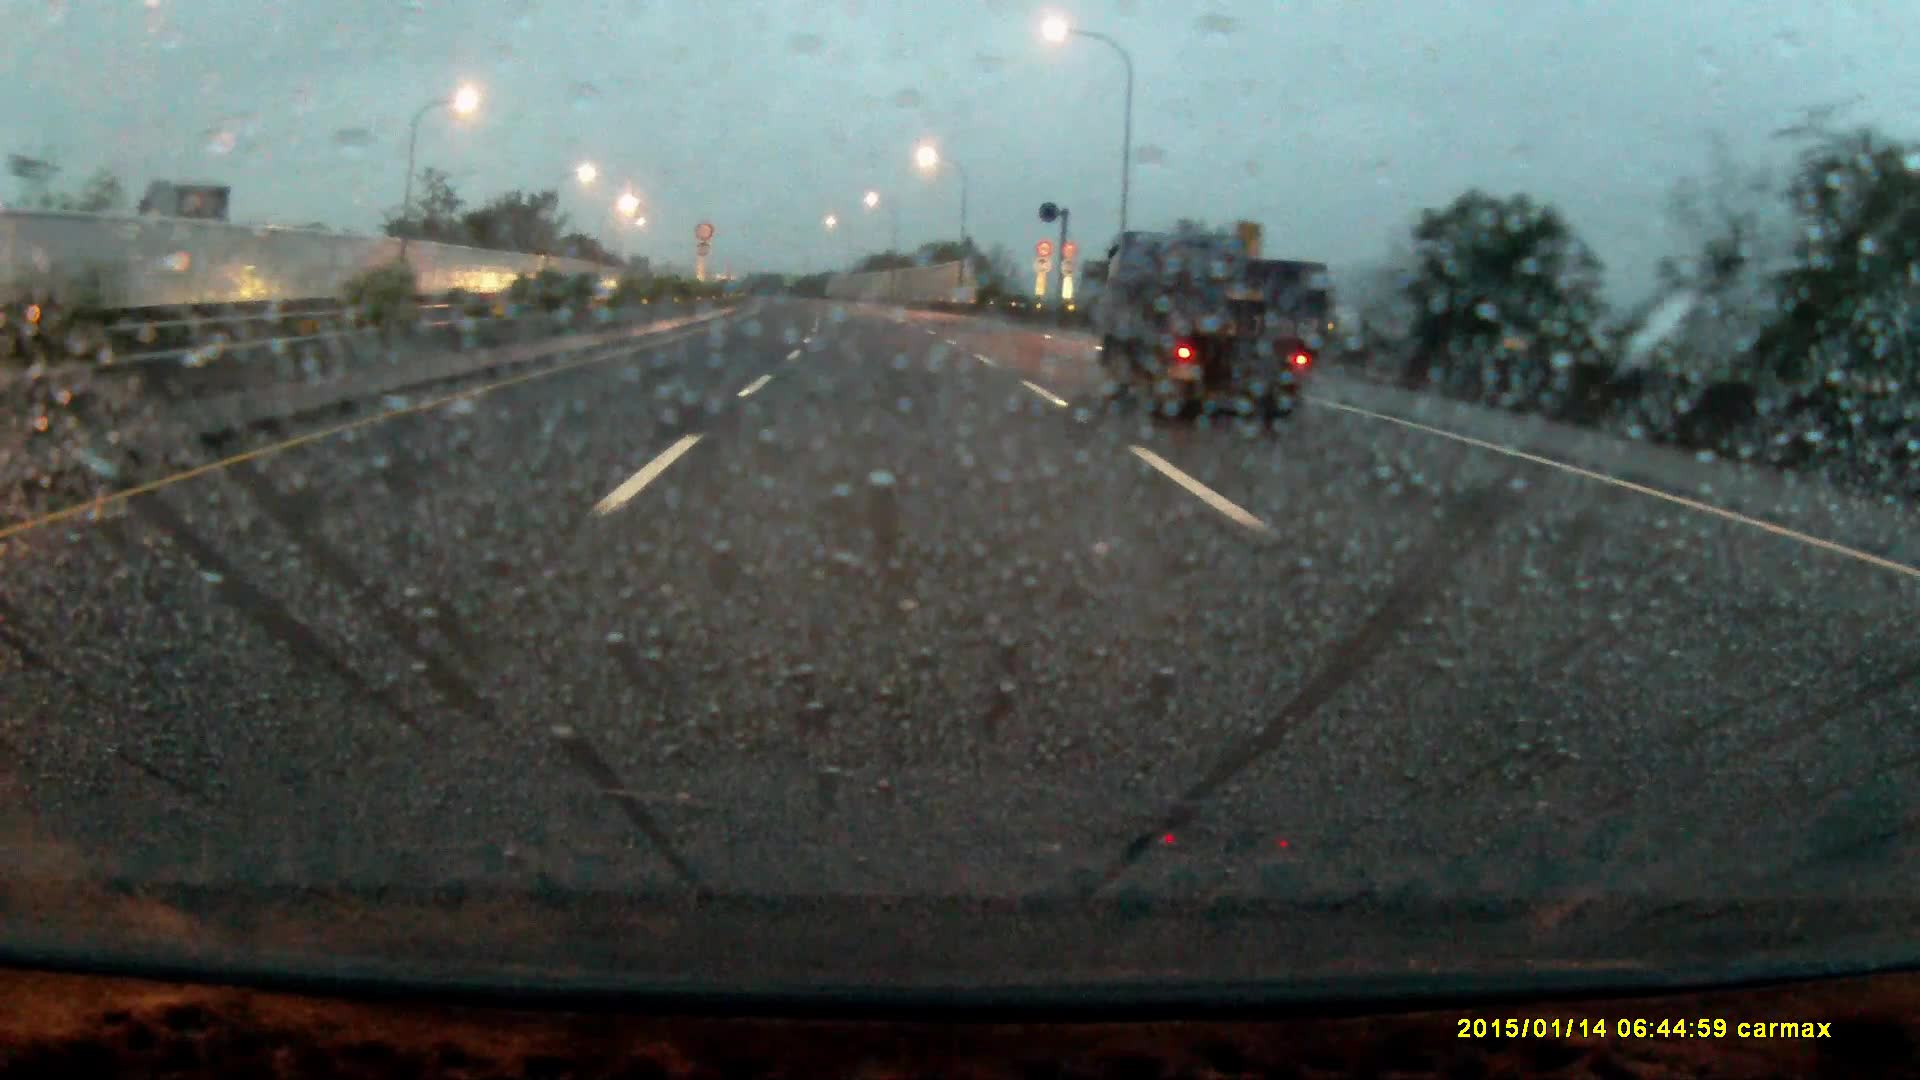vehicle: (1097, 240, 1324, 422)
